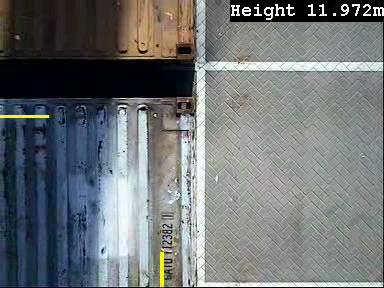groundmarker_2: (160, 19, 237, 75)
